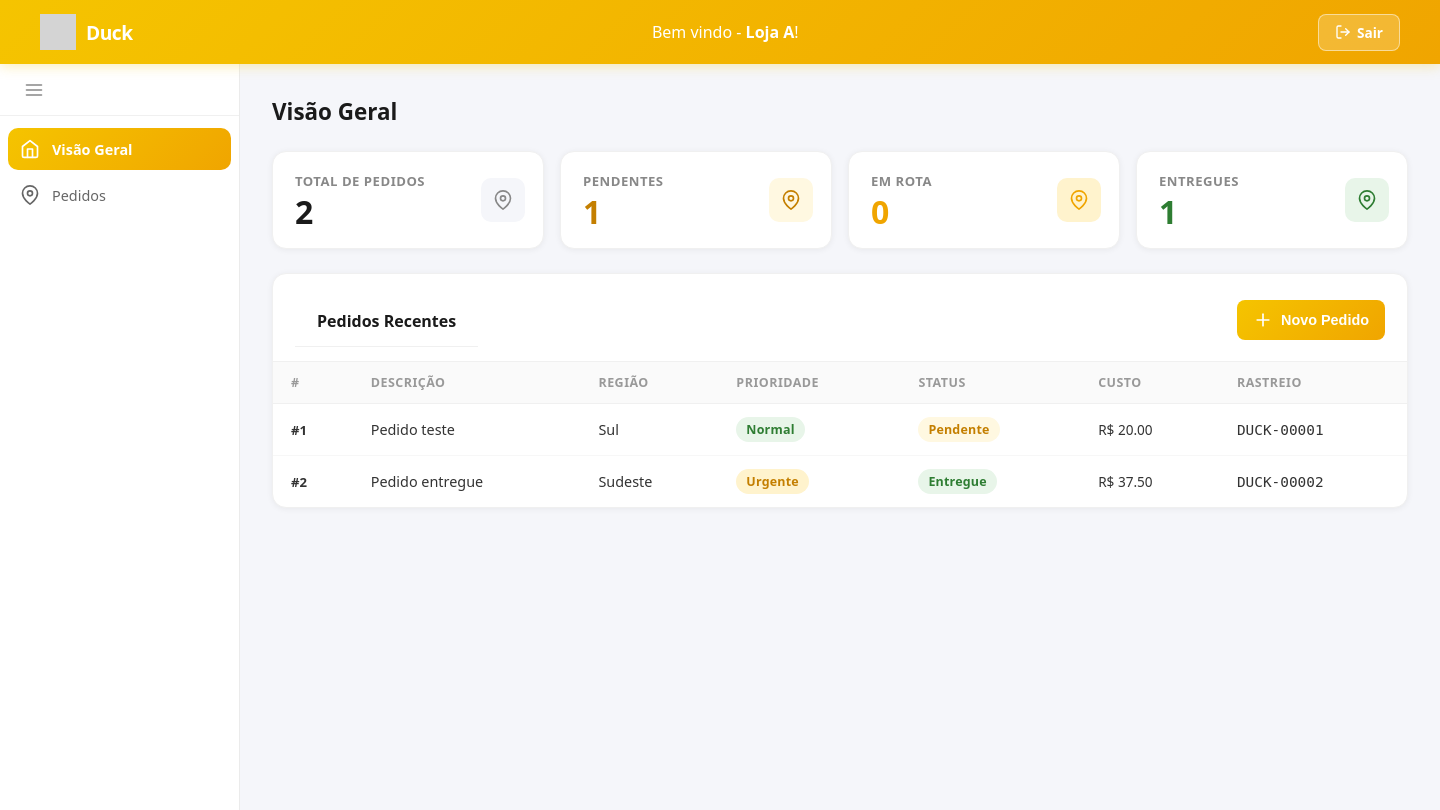
Test: LojistaDashboard › fecha o formulário ao clicar em Cancelar
Expected: the heading "Pedidos Recentes" is shown, [295,292,478,347]
Click the button "Novo Pedido".
click(1311, 320)  # box [1237,300,1385,340]
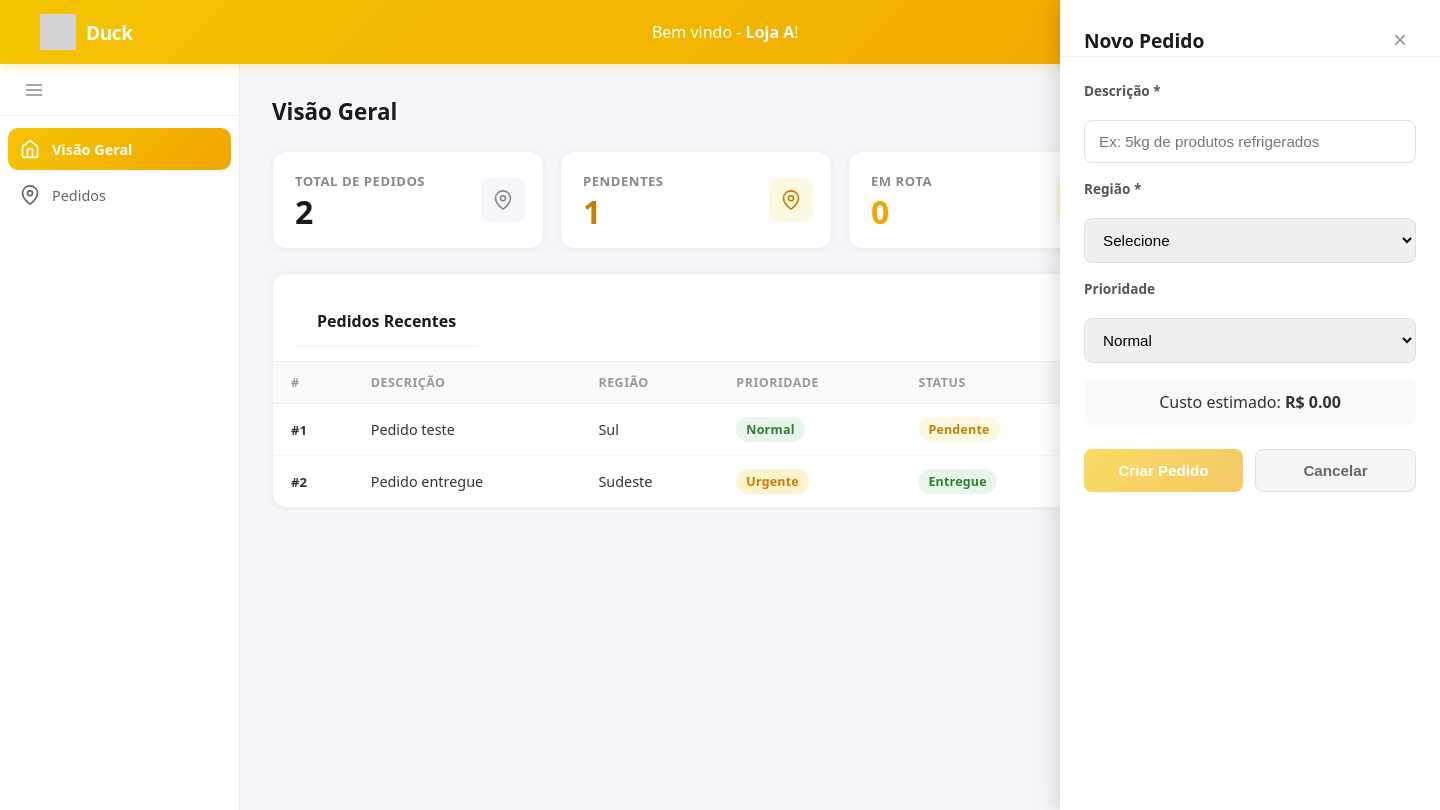
Expected: the text "Custo estimado: R$ 0.00" is shown, [1084,379,1416,425]
Click the button "Cancelar".
click(1336, 470)  # box [1255,449,1416,492]
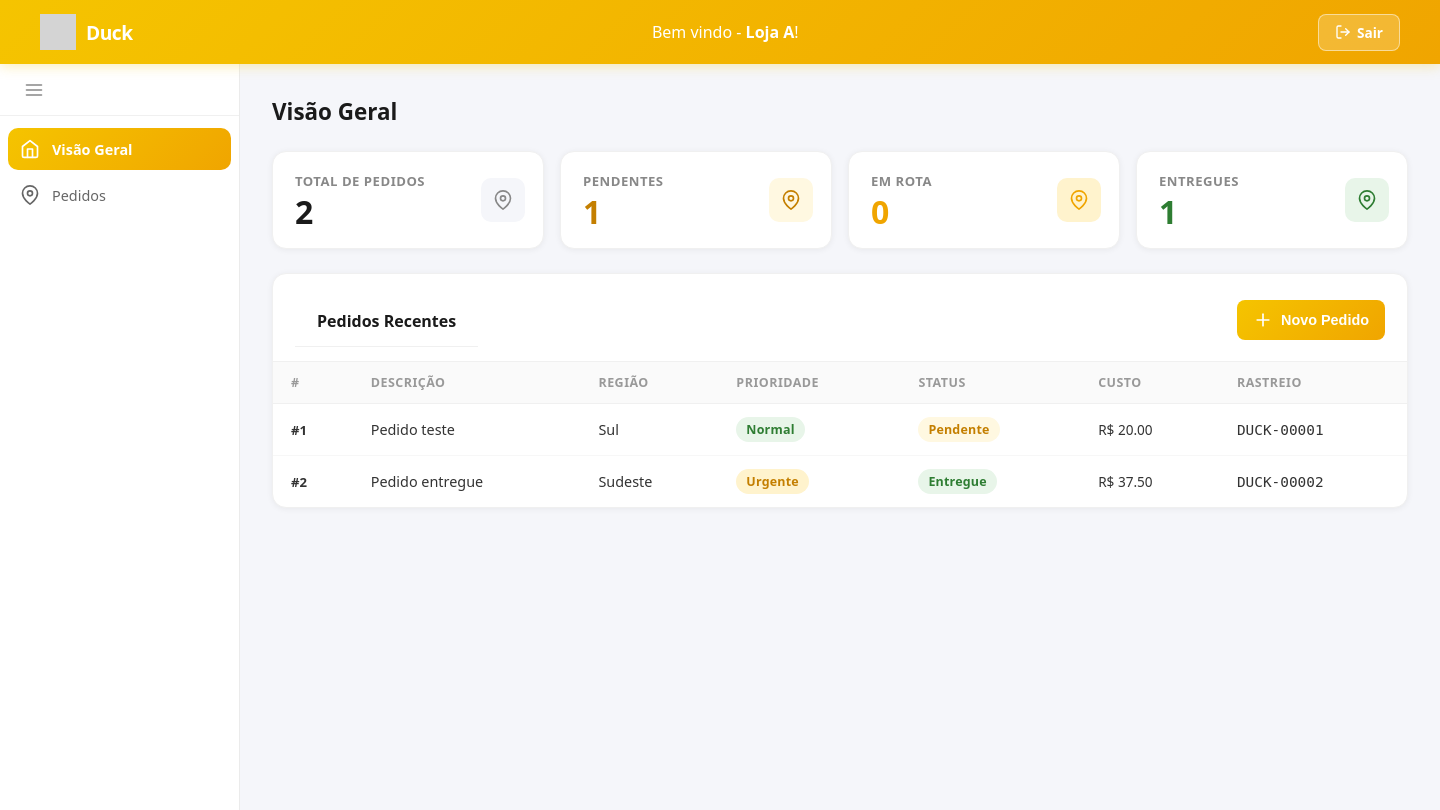
Expected: the text "Custo estimado" is gone
